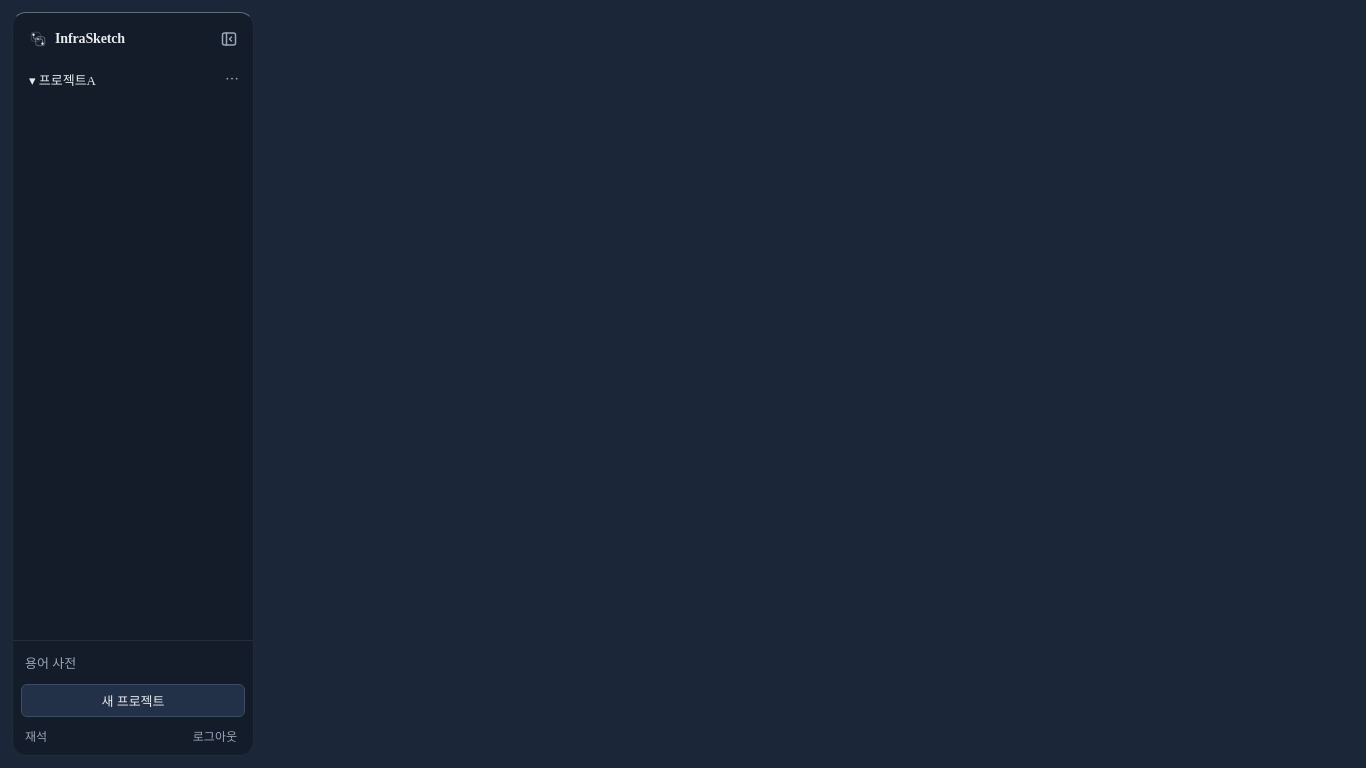
Test case: sidebar collapses to rail and is remembered
The width and height of the screenshot is (1366, 768).
Expected: the button "▾ 프로젝트A" is shown, [21,63,217,96]
Click the button named "프로젝트 영역 접기".
click(229, 39)  # box [213,23,245,55]
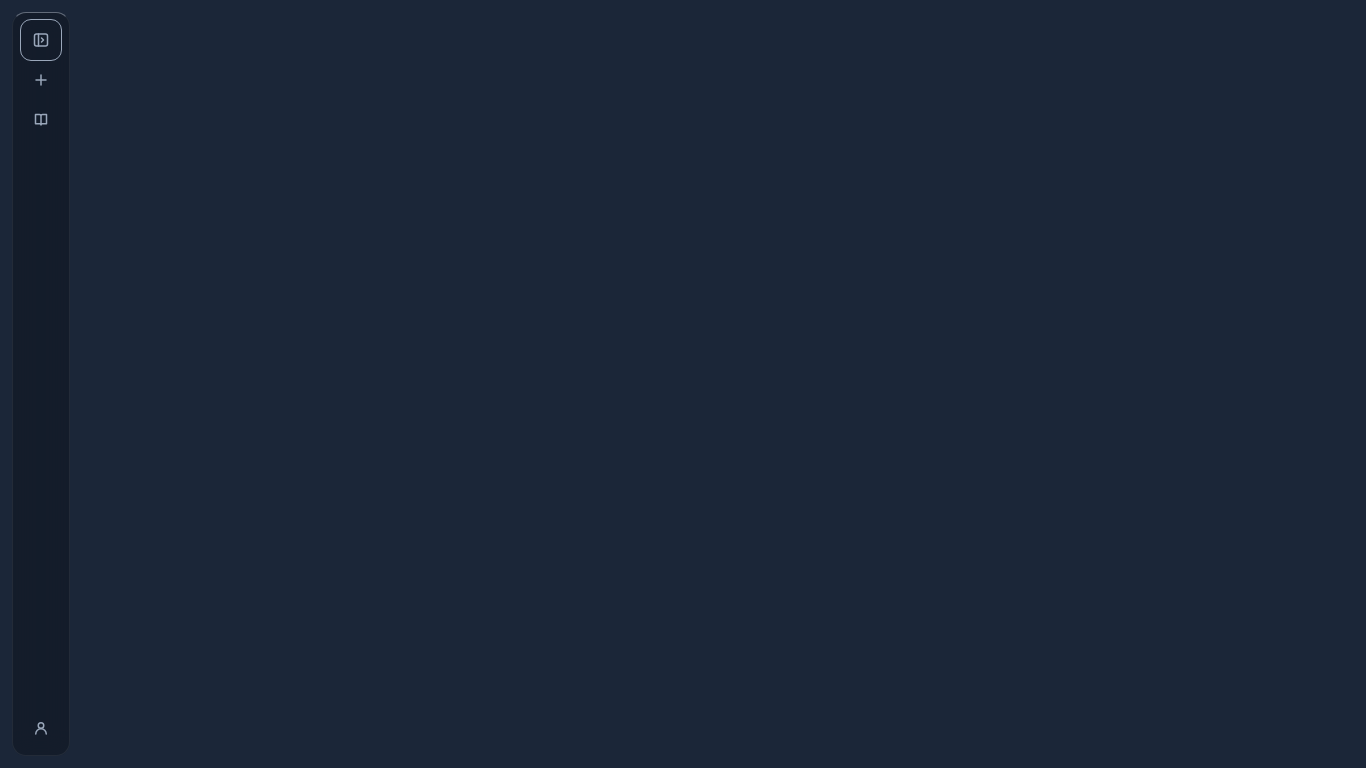
Result: the button "프로젝트A" is gone
Click the button named "프로젝트 영역 펼치기".
click(41, 40)  # box [23,22,59,58]
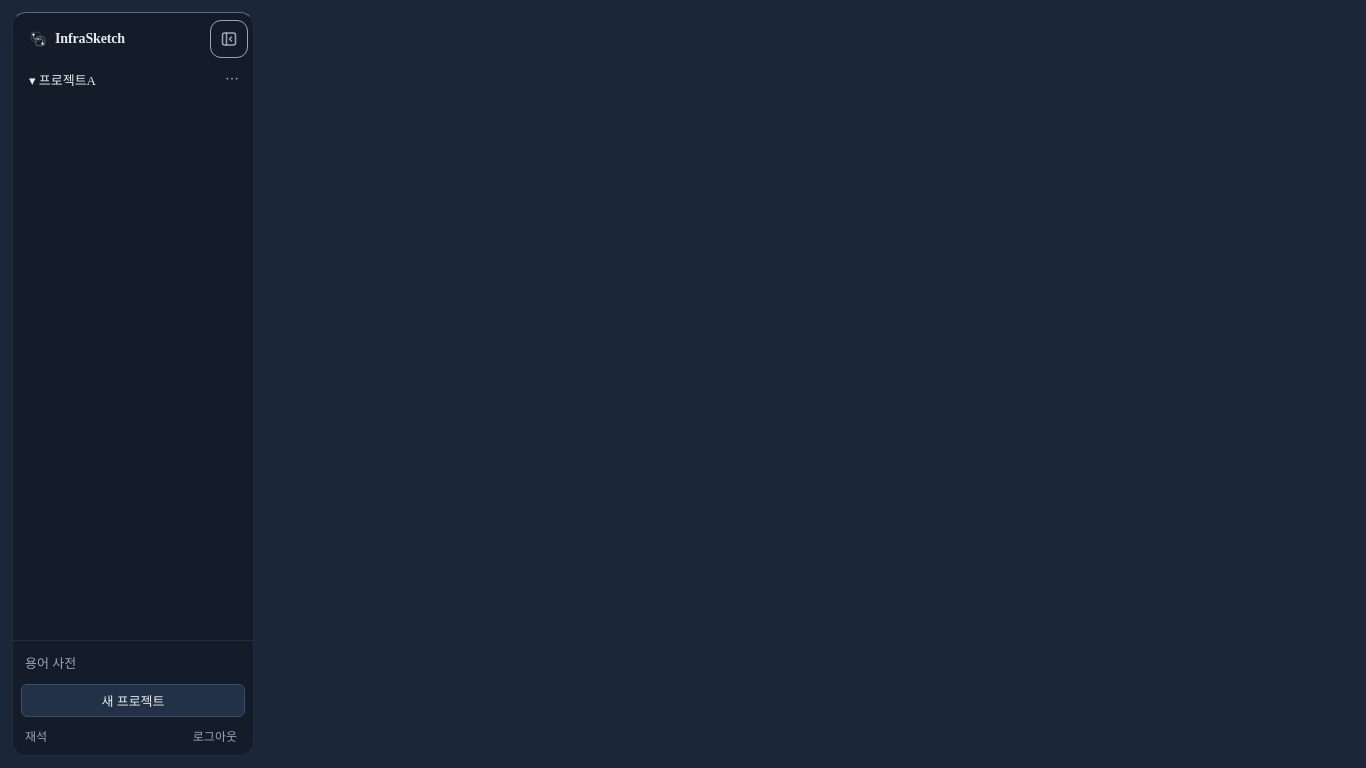
Result: the button "▾ 프로젝트A" is shown at [21,63,217,96]
